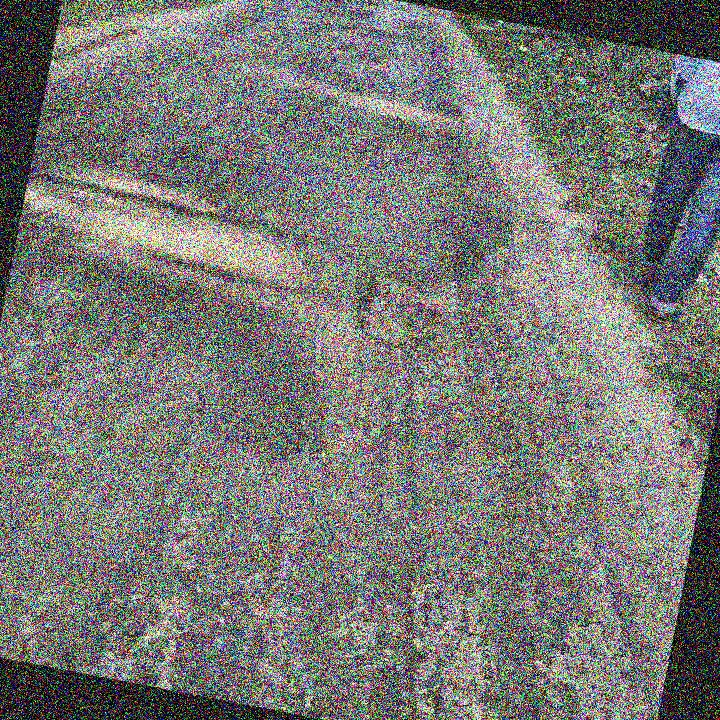pothole: (347, 261, 462, 364)
